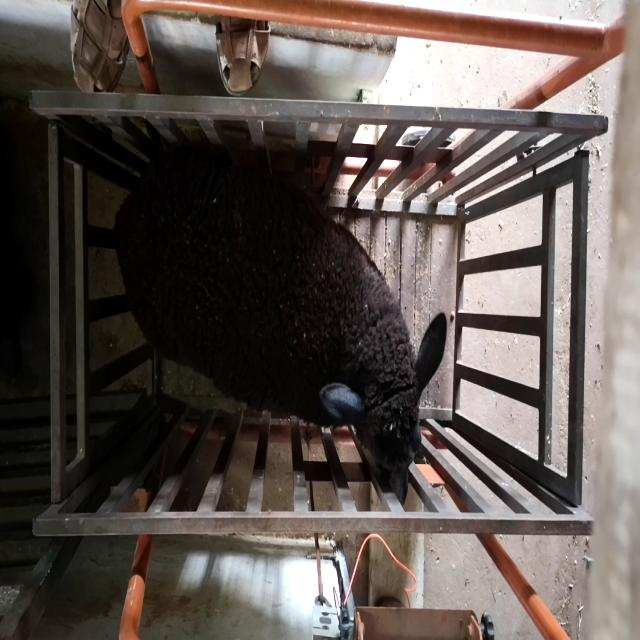sheep: (114, 142, 447, 507)
